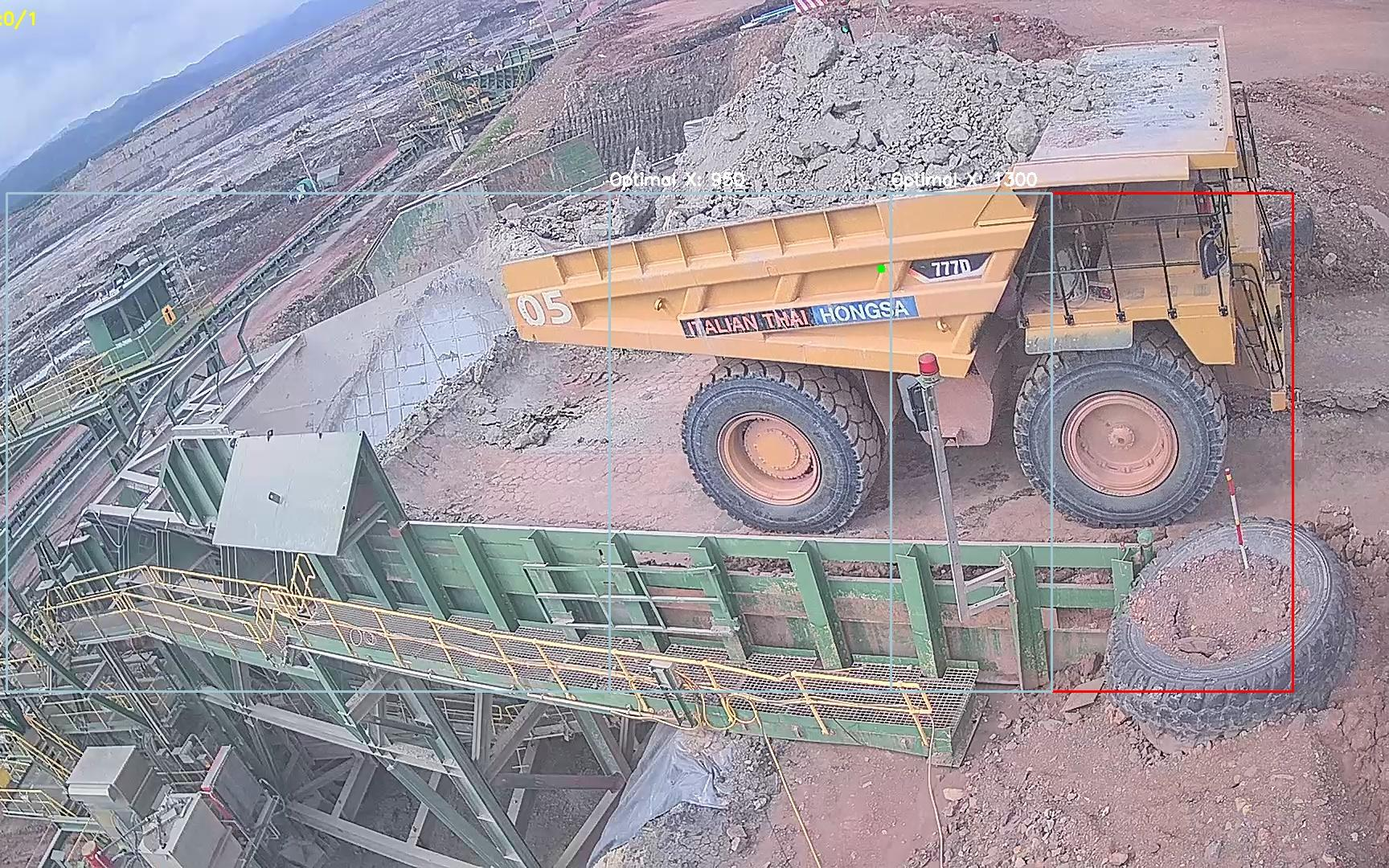company: (678, 286, 929, 349)
full_load: (715, 10, 1046, 223)
mining_truck: (488, 3, 1307, 536)
tail_number: (504, 276, 595, 343)
truck_size: (904, 249, 993, 285)
